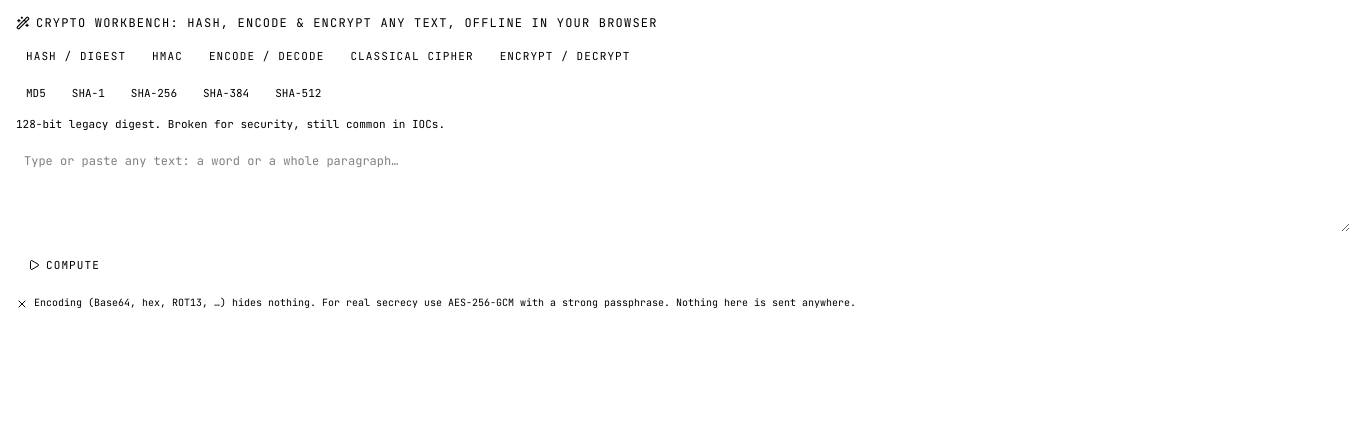
Test: <CryptoWorkbench> digests › switches to SHA-256 within the digest category
Click the option "SHA-256" at {"x": 154, "y": 93}, box [121,80,187,105]
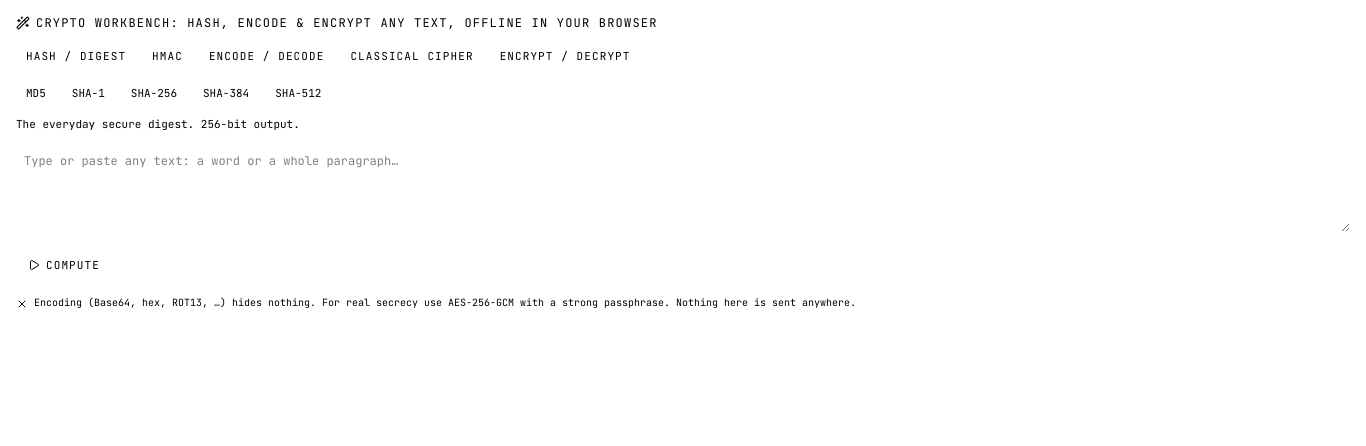
Type "abc" into the text box named "Input text" at {"x": 683, "y": 188}, box [16,144,1350,232]
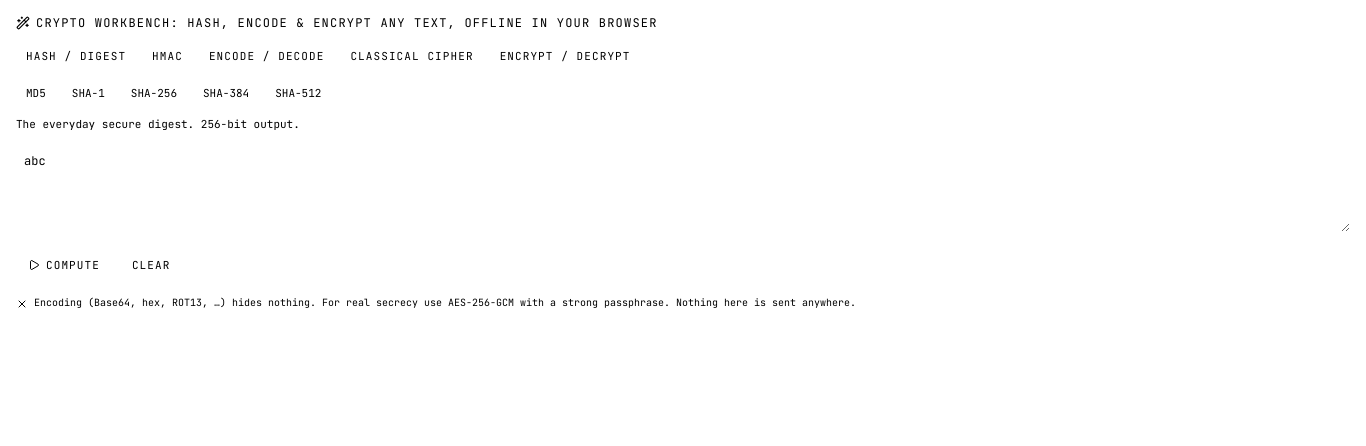
Click the button "Compute" at {"x": 64, "y": 265}, box [16,251,112,280]
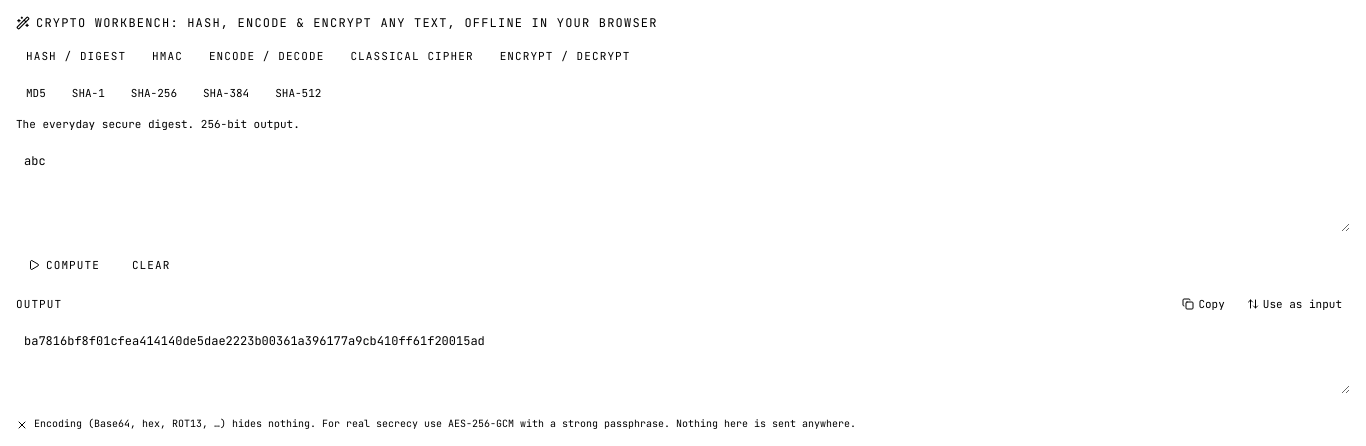
Check: the text box named "Output" holds "ba7816bf8f01cfea414140de5dae2223b00361a396177a9cb410ff61f20015ad", box [16,324,1350,394]
